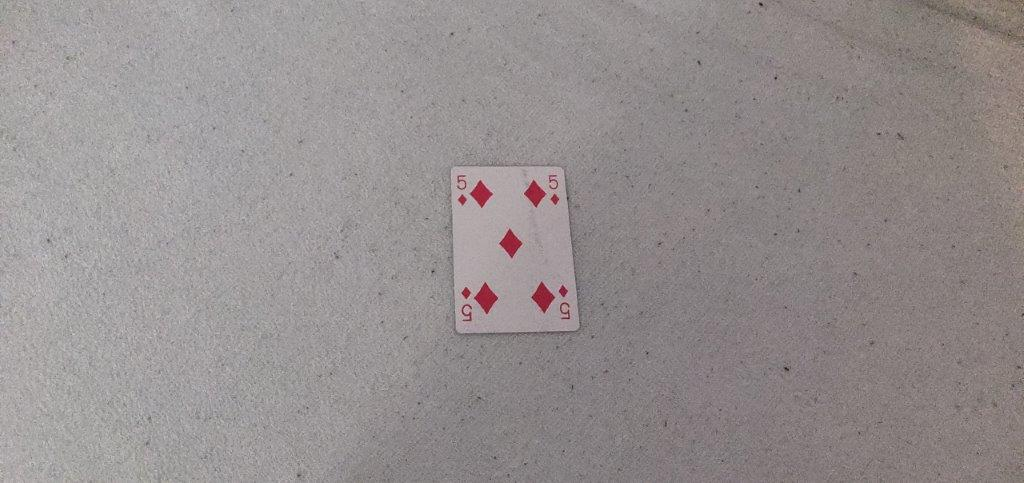5D: (545, 170, 563, 209), (453, 173, 473, 208)
